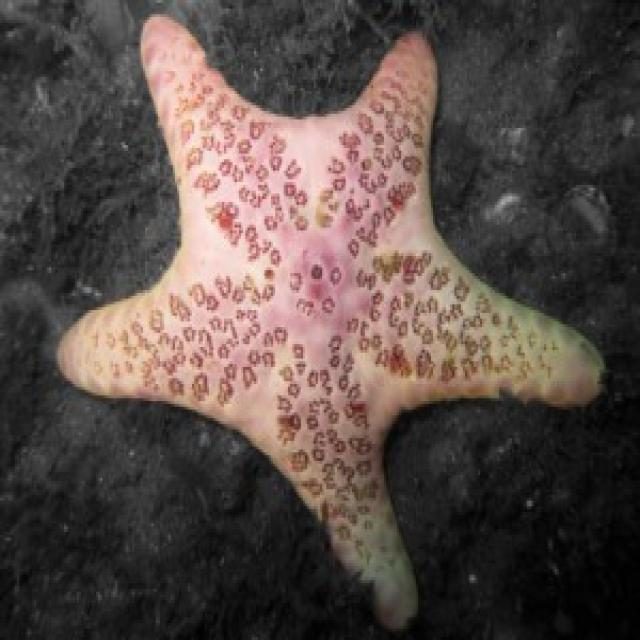Starfish: (53, 3, 611, 630)
